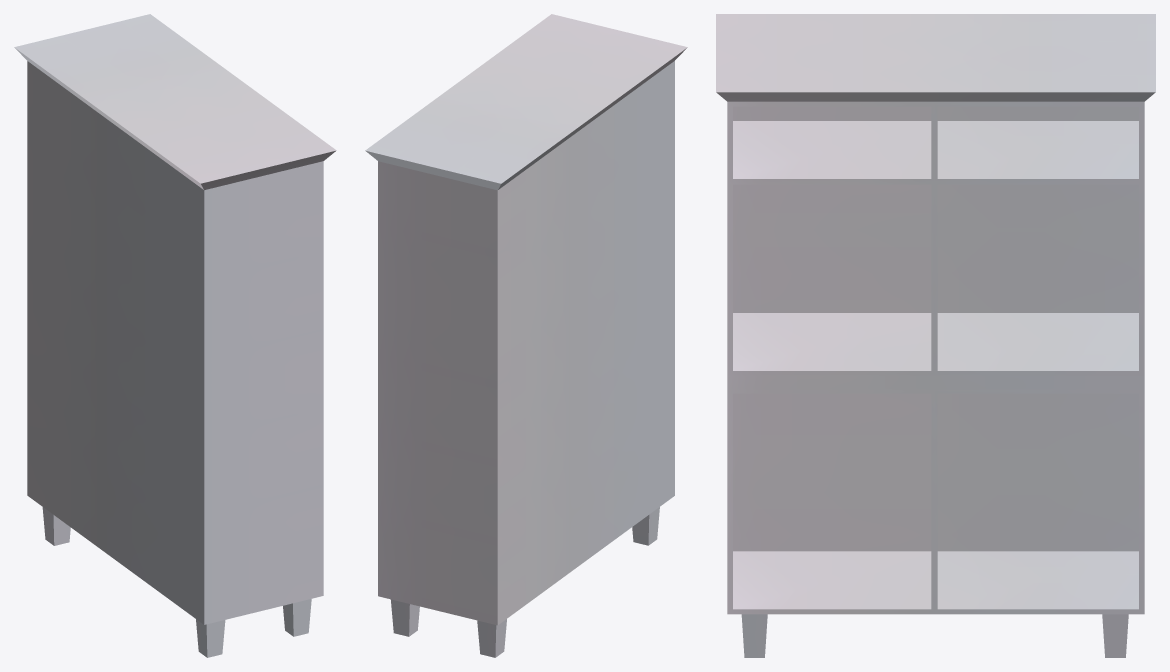
File: chestOfDrawers_base.glb
3 renders of one model, left to right at view 1: azimuth 30°, elevation 25°; view 2: azimuth 150°, elevation 25°; view 3: azimuth 270°, elevation 25°, orthographic. The views are drawn at different scales.
Parts seen in each view (by area): view 1: RC_Furn_Dresser; view 2: RC_Furn_Dresser; view 3: RC_Furn_Dresser.
Boxes of the visible parts, bbox=[...] form: RC_Furn_Dresser: bbox=[14, 14, 336, 657]; RC_Furn_Dresser: bbox=[365, 14, 687, 657]; RC_Furn_Dresser: bbox=[716, 14, 1155, 657].
Size of the model in its own units: 0.93 by 3.18 by 2.21.
Materials: 1 (1 with a texture image).
